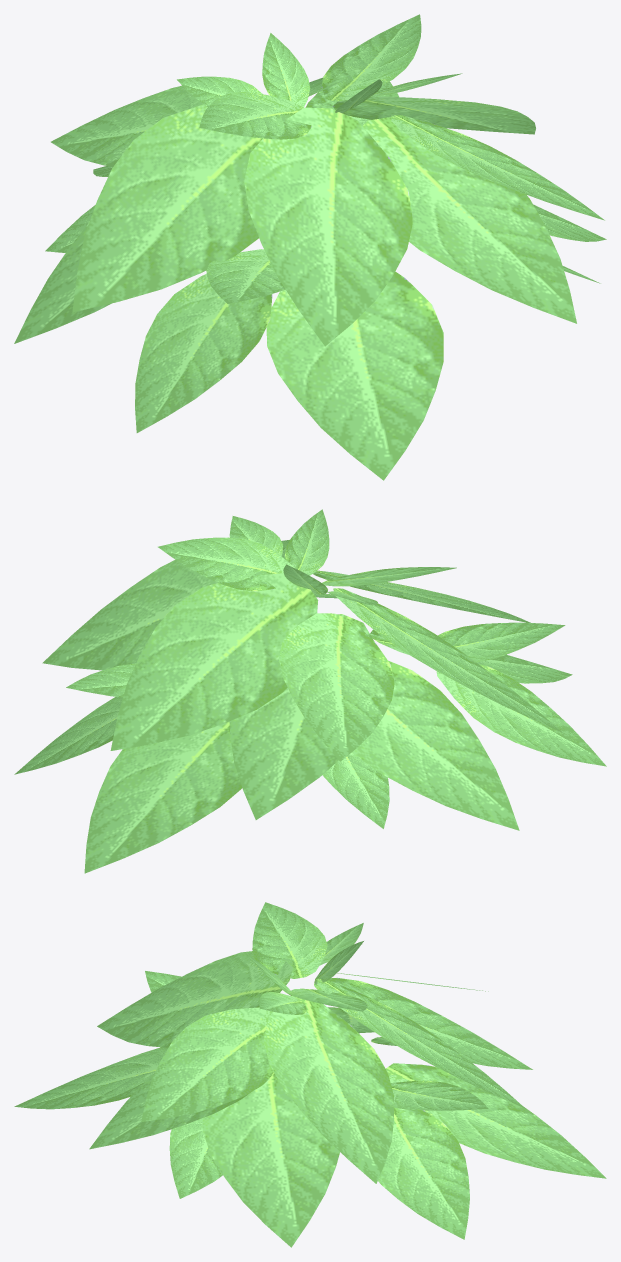
File: medium-leaf-bunch.glb
3 renders of one model, top to bottom at view 1: azimuth 30°, elevation 25°; view 2: azimuth 150°, elevation 25°; view 3: azimuth 270°, elevation 25°, orthographic. The views are drawn at different scales.
Parts seen in each view (by area): view 1: Plane.020, Plane.021, Plane.013, Plane.008, Plane.019, Plane.001, Plane.022, Plane.006, Plane.002, Plane.017, Plane.023, Plane.018 (+4 smaller); view 2: Plane.003, Plane.010, Plane.023, Plane.022, Plane.015, Plane.002, Plane.021, Plane.019, Plane.006, Plane.018, Plane.004, Plane.012 (+7 smaller); view 3: Plane.002, Plane, Plane.001, Plane.020, Plane.010, Plane.004, Plane.003, Plane.017, Plane.013, Plane.015, Plane.011, Plane.008 (+5 smaller).
Part boxes in pixels (x1,y1,x2,y2): Plane.020: [244, 107, 413, 346]; Plane.021: [72, 104, 262, 312]; Plane.013: [266, 271, 443, 480]; Plane.008: [362, 117, 576, 323]; Plane.019: [135, 273, 272, 432]; Plane.001: [391, 115, 604, 220]; Plane.022: [51, 85, 203, 166]; Plane.006: [321, 14, 421, 101]; Plane.002: [333, 96, 535, 134]; Plane.017: [199, 91, 311, 139]; Plane.023: [14, 222, 111, 343]; Plane.018: [206, 249, 285, 303]; Plane.003: [110, 573, 318, 750]; Plane.010: [84, 721, 242, 873]; Plane.023: [352, 660, 519, 830]; Plane.022: [279, 613, 394, 761]; Plane.015: [229, 614, 374, 819]; Plane.002: [42, 559, 217, 670]; Plane.021: [333, 588, 562, 732]; Plane.019: [436, 664, 606, 766]; Plane.006: [158, 537, 294, 591]; Plane.018: [438, 622, 565, 662]; Plane.004: [14, 697, 122, 774]; Plane.012: [322, 752, 389, 828]; Plane.002: [263, 996, 393, 1183]; Plane: [202, 1073, 339, 1247]; Plane.001: [141, 1007, 274, 1121]; Plane.020: [97, 951, 292, 1047]; Plane.010: [386, 1063, 606, 1178]; Plane.004: [378, 1107, 469, 1239]; Plane.003: [317, 979, 525, 1108]; Plane.017: [252, 902, 327, 978]; Plane.013: [14, 1047, 167, 1109]; Plane.015: [314, 977, 532, 1069]; Plane.011: [169, 1118, 222, 1198]; Plane.008: [89, 1073, 250, 1149].
Size of the model in its own units: 4.19 by 1.89 by 4.89.
Materials: 1 (1 with a texture image).
